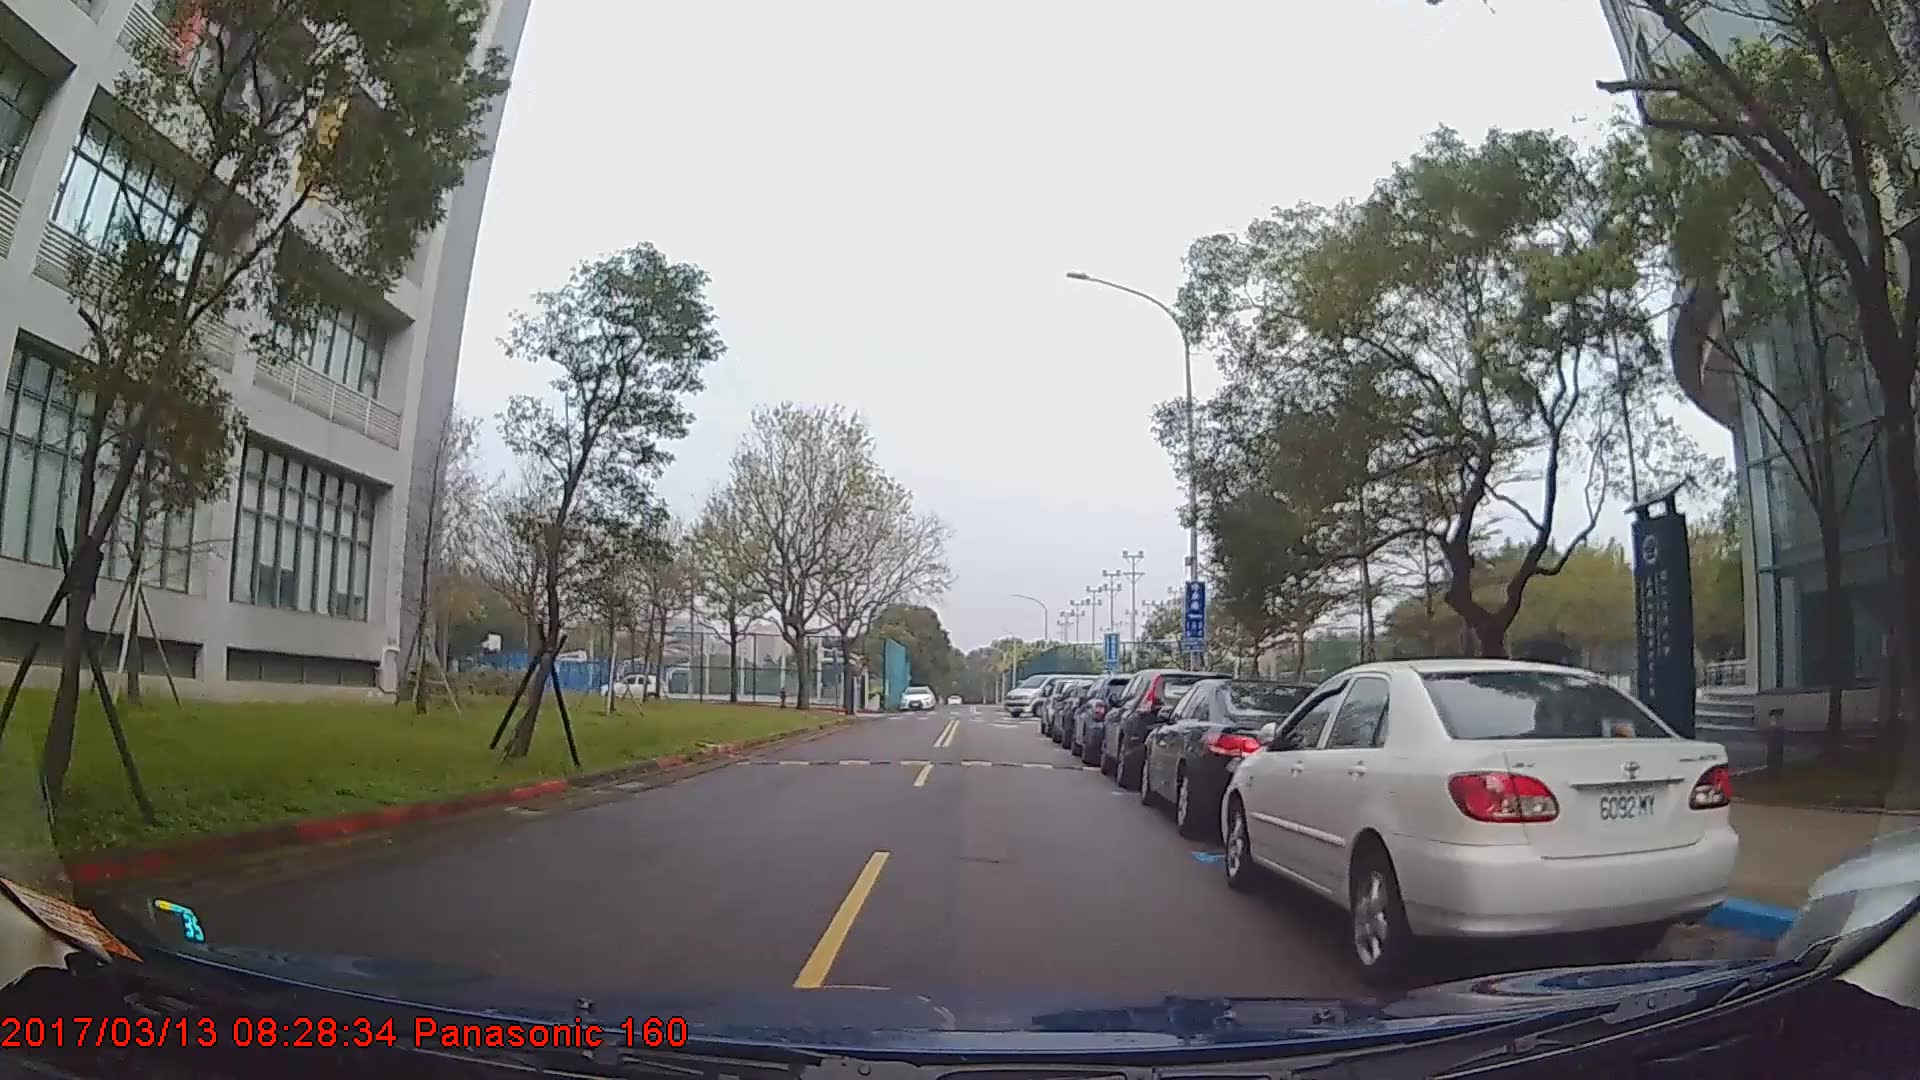vehicle: (1221, 657, 1743, 980), (1143, 673, 1350, 835), (1097, 669, 1234, 790), (1069, 673, 1158, 767), (1004, 671, 1112, 717), (597, 670, 667, 699), (899, 683, 934, 708)
